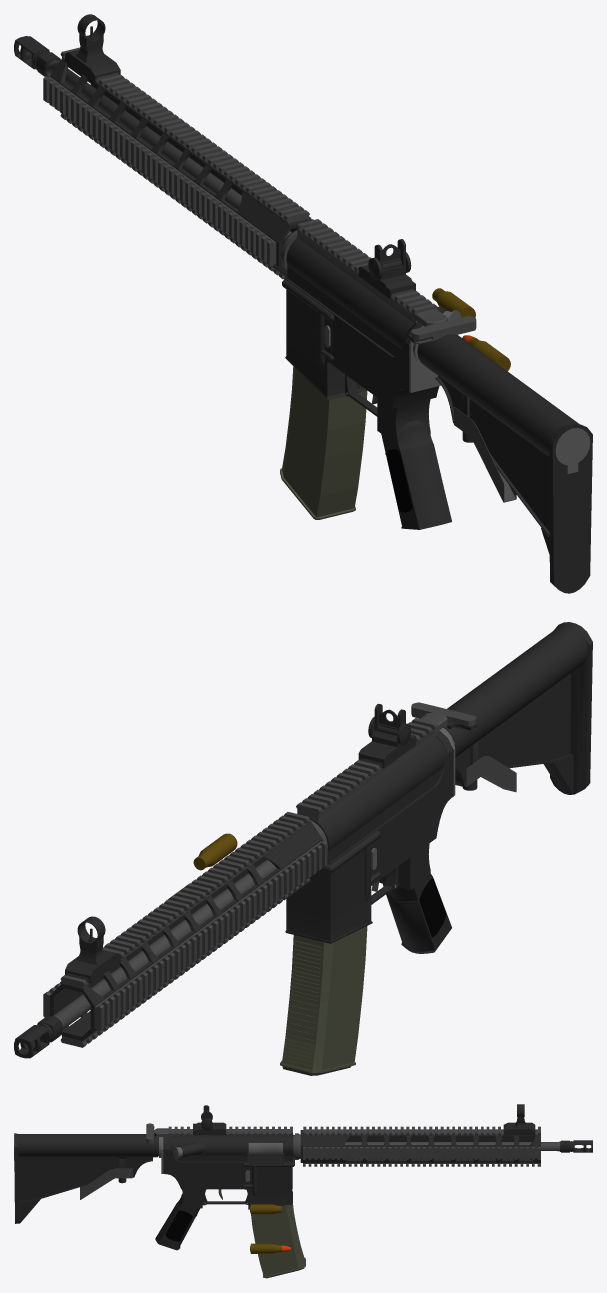
Rendered from Assault_Rifle.obj.
3 views of the same model, one above another, from view 1: azimuth 30°, elevation 25°; view 2: azimuth 150°, elevation 25°; view 3: azimuth 270°, elevation 25° (orthographic). The views are drawn at different scales.
Parts seen in each view (by area): view 1: pCube34_Mesh.047, pCylinder1_Mesh.002, pCube43_Mesh.058, pCube4_Mesh.005, pCube41_Mesh.056, pCube5_Mesh.006, pCylinder30_Mesh.071, pCube17_Mesh.034, pCube21_Mesh.040, pCube1_Mesh, pCube35_Mesh.048, pCylinder14_Mesh.037 (+14 smaller); view 2: pCube34_Mesh.047, pCylinder1_Mesh.002, pCube43_Mesh.058, pCube5_Mesh.006, pCube41_Mesh.056, pCylinder30_Mesh.071, pCube21_Mesh.040, pCube35_Mesh.048, pCube1_Mesh, pCube4_Mesh.005, pCube12_Mesh.016, pCylinder14_Mesh.037 (+16 smaller); view 3: pCube5_Mesh.006, pCylinder1_Mesh.002, pCube42_Mesh.057, pCube34_Mesh.047, pCube20_Mesh.039, pCube1_Mesh, pCube41_Mesh.056, pCylinder30_Mesh.071, pCube35_Mesh.048, pCube12_Mesh.016, pCube21_Mesh.040, pCube17_Mesh.034 (+18 smaller).
Part boxes in pixels (x1=…): pCube34_Mesh.047: x1=280, y1=366, x2=367, y2=519; pCylinder1_Mesh.002: x1=417, y1=334, x2=579, y2=456; pCube43_Mesh.058: x1=43, y1=76, x2=276, y2=266; pCube4_Mesh.005: x1=549, y1=423, x2=592, y2=593; pCube41_Mesh.056: x1=60, y1=47, x2=309, y2=223; pCube5_Mesh.006: x1=435, y1=376, x2=549, y2=554; pCylinder30_Mesh.071: x1=286, y1=238, x2=414, y2=349; pCube17_Mesh.034: x1=381, y1=420, x2=451, y2=529; pCube21_Mesh.040: x1=50, y1=59, x2=292, y2=274; pCube1_Mesh: x1=331, y1=311, x2=435, y2=408; pCube35_Mesh.048: x1=296, y1=219, x2=437, y2=323; pCylinder14_Mesh.037: x1=46, y1=60, x2=291, y2=245; pCube34_Mesh.047: x1=280, y1=926, x2=367, y2=1075; pCylinder1_Mesh.002: x1=443, y1=625, x2=588, y2=757; pCube43_Mesh.058: x1=94, y1=841, x2=327, y2=1030; pCube5_Mesh.006: x1=455, y1=673, x2=573, y2=794; pCube41_Mesh.056: x1=60, y1=812, x2=309, y2=988; pCylinder30_Mesh.071: x1=310, y1=737, x2=445, y2=851; pCube21_Mesh.040: x1=82, y1=822, x2=322, y2=1039; pCube35_Mesh.048: x1=296, y1=718, x2=437, y2=823; pCube1_Mesh: x1=374, y1=786, x2=436, y2=881; pCube4_Mesh.005: x1=550, y1=622, x2=592, y2=794; pCube12_Mesh.016: x1=286, y1=830, x2=375, y2=915; pCylinder14_Mesh.037: x1=53, y1=859, x2=276, y2=1029; pCube5_Mesh.006: x1=19, y1=1157, x2=152, y2=1222; pCylinder1_Mesh.002: x1=17, y1=1134, x2=158, y2=1157; pCube42_Mesh.057: x1=303, y1=1146, x2=540, y2=1159; pCube34_Mesh.047: x1=250, y1=1204, x2=305, y2=1278; pCube20_Mesh.039: x1=300, y1=1135, x2=540, y2=1162; pCube1_Mesh: x1=181, y1=1161, x2=245, y2=1189; pCube41_Mesh.056: x1=303, y1=1126, x2=540, y2=1135; pCylinder30_Mesh.071: x1=169, y1=1134, x2=293, y2=1155; pCube35_Mesh.048: x1=168, y1=1126, x2=292, y2=1139; pCube12_Mesh.016: x1=245, y1=1161, x2=292, y2=1189; pCube21_Mesh.040: x1=346, y1=1137, x2=533, y2=1141; pCube17_Mesh.034: x1=155, y1=1193, x2=200, y2=1250.
Bounding box in the file's own units: 4.71 × 7.46 × 23.13.
